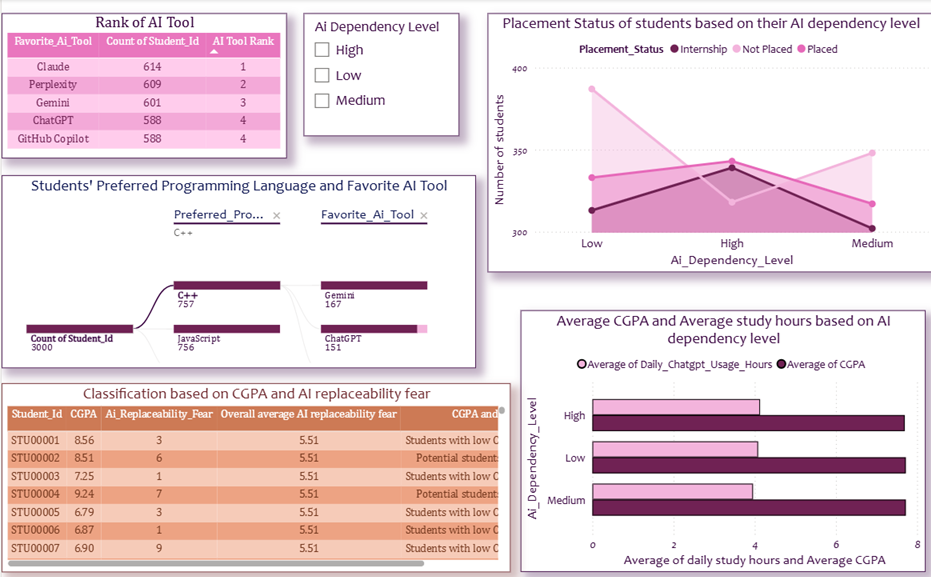

Layout of this report page (visuals, bound fields, positions):
{"tool":"powerbi","page":{"name":"AI usage","canvas":[1140,720],"ordinal":1},"visuals":[{"type":"clusteredBarChart","title":"Average CGPA and Average study hours based on AI dependency level","fields":{"Y":["Avg(indian_students_ai_dataset.Daily_Chatgpt_Usage_Hours)","Avg(indian_students_ai_dataset.CGPA)"],"Category":["indian_students_ai_dataset.Ai_Dependency_Level"]},"box":[634.7,380.3,495.2,320.4],"z":0},{"type":"decompositionTreeVisual","title":"Students'' Preferred Programming Language and Favorite AI Tool","fields":{"ExplainBy":["indian_students_ai_dataset.Preferred_Programming_Language","indian_students_ai_dataset.Favorite_Ai_Tool"],"Analyze":["CountNonNull(indian_students_ai_dataset.Student_Id)"]},"box":[0,215.2,579.6,236],"z":1000},{"type":"areaChart","title":"Placement Status of students based on their AI dependency level","fields":{"Category":["indian_students_ai_dataset.Ai_Dependency_Level"],"Series":["indian_students_ai_dataset.Placement_Status"],"Y":["CountNonNull(indian_students_ai_dataset.Student_Id)"]},"box":[594.3,17.1,545.4,316.7],"z":2000},{"type":"tableEx","title":"Rank of AI Tool","fields":{"Values":["indian_students_ai_dataset.Favorite_Ai_Tool","indian_students_ai_dataset.Student_Id","indian_students_ai_dataset.AI Tool Rank"]},"box":[0,17.1,348.5,177.3],"z":3000},{"type":"tableEx","title":"Classification based on CGPA and AI replaceability fear","fields":{"Values":["indian_students_ai_dataset.Student_Id","indian_students_ai_dataset.CGPA","indian_students_ai_dataset.Ai_Replaceability_Fear","indian_students_ai_dataset.Overall average AI replaceability fear","indian_students_ai_dataset.CGPA and AI fear"]},"box":[0,469.6,622.4,231.1],"z":4000},{"type":"slicer","fields":{"Values":["indian_students_ai_dataset.Ai_Dependency_Level"]},"box":[369.3,17.1,190.8,150.4],"z":5000}]}

Visuals, with their boxes in screenshot pixels (x1, y1, x2, y2), scaled from the page's 1140x720 canvas onto the 931x577 screenshot:
"Average CGPA and Average study hours based on AI dependency level" clusteredBarChart: locate(518, 305, 923, 562)
"Students'' Preferred Programming Language and Favorite AI Tool" decompositionTreeVisual: locate(0, 172, 473, 362)
"Placement Status of students based on their AI dependency level" areaChart: locate(485, 14, 930, 268)
"Rank of AI Tool" tableEx: locate(0, 14, 285, 156)
"Classification based on CGPA and AI replaceability fear" tableEx: locate(0, 376, 508, 562)
slicer - indian_students_ai_dataset.Ai_Dependency_Level: locate(302, 14, 457, 134)
